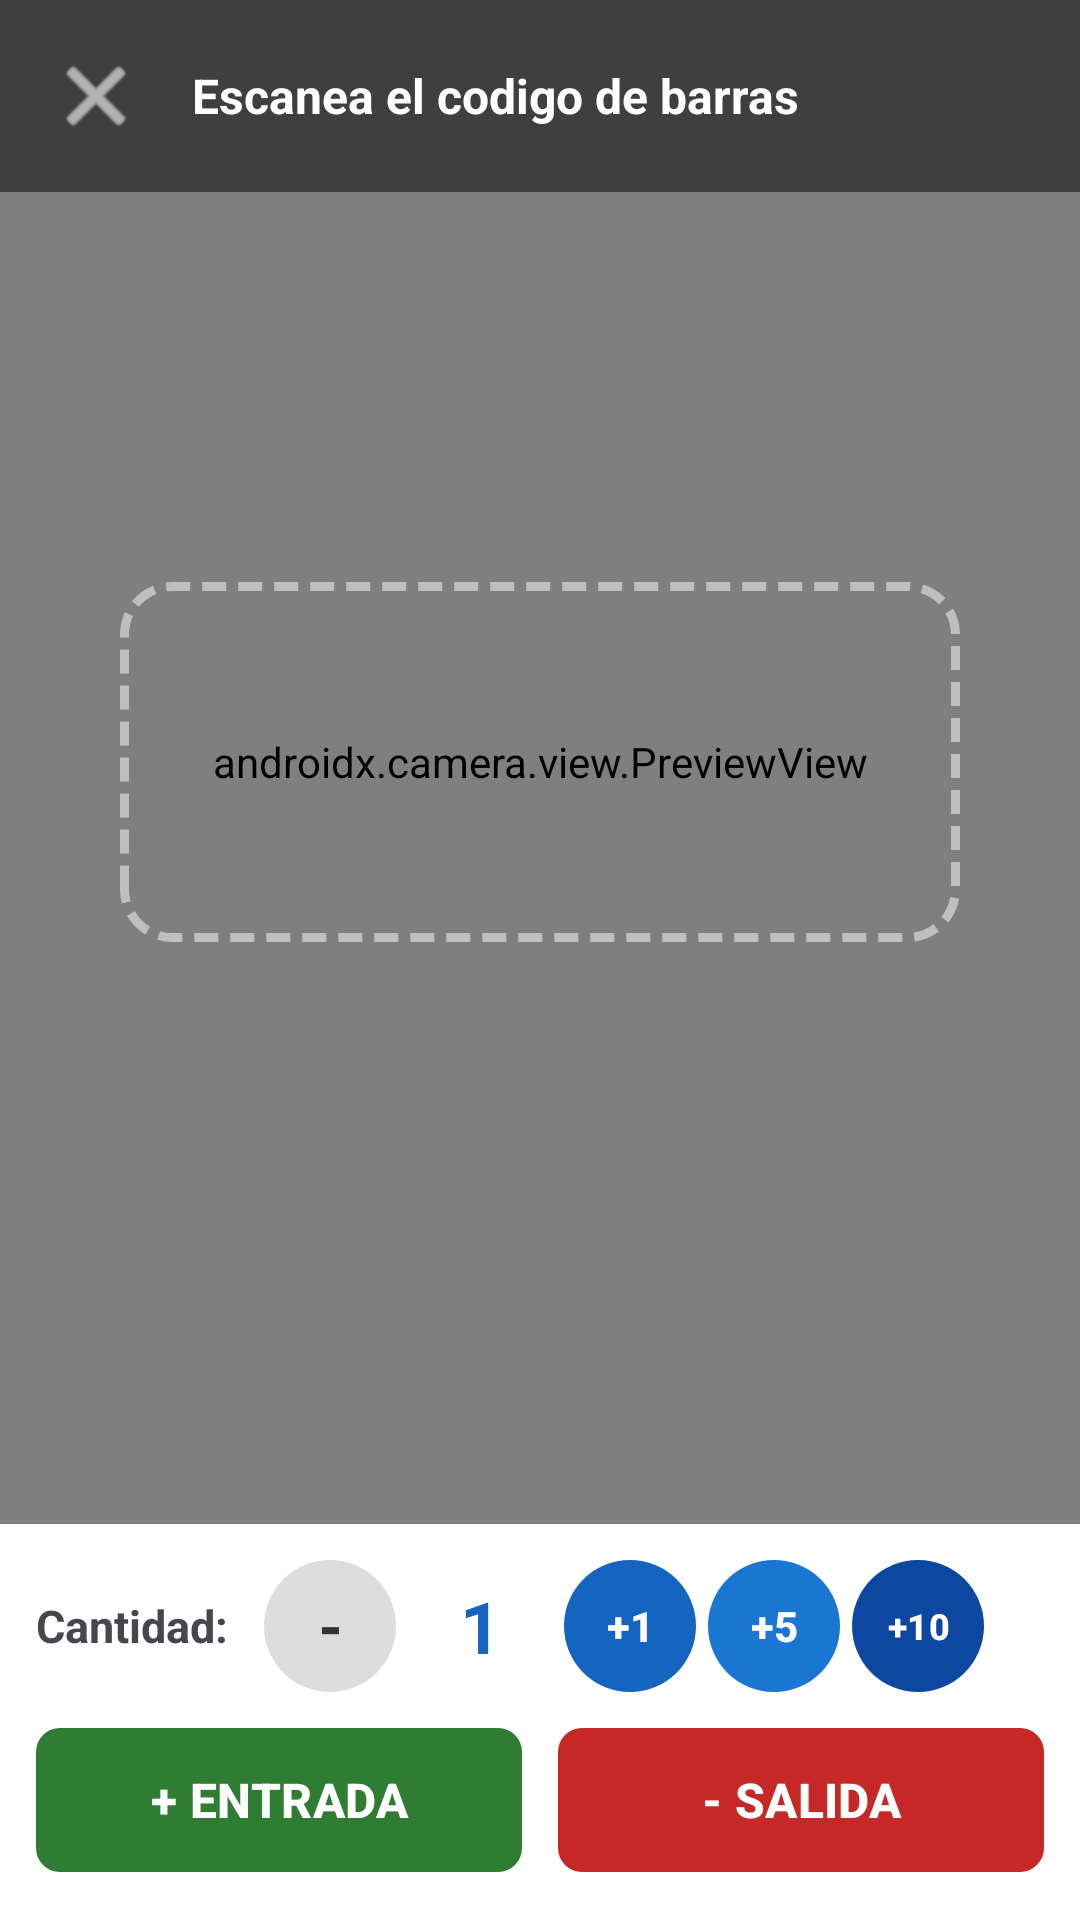

Icons on this 1080 x 1920 Android screen, each with the point to tap as [x,y]:
Volver: [96,96]
